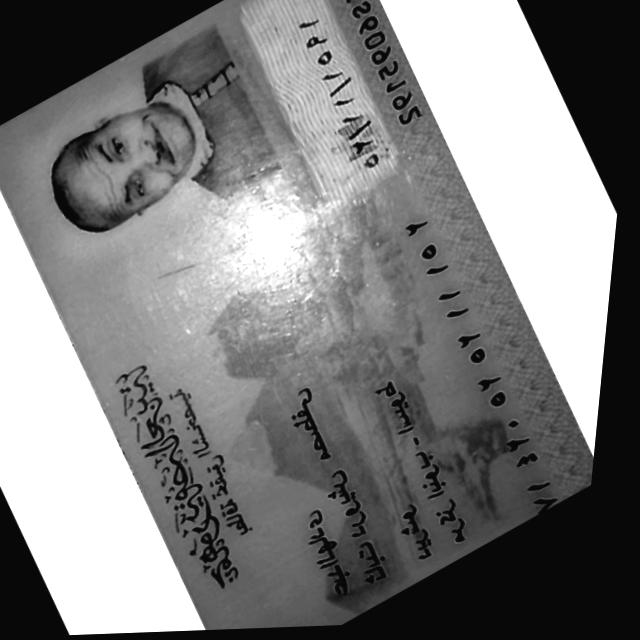id_card: (0, 0, 594, 630)
